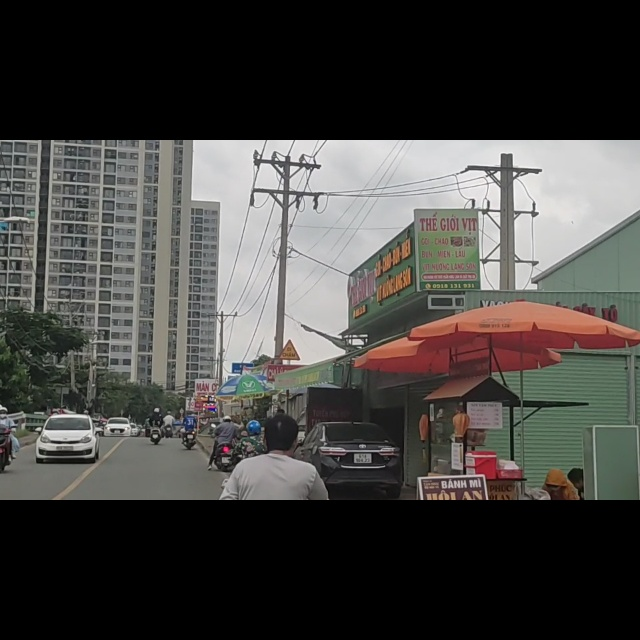bien_nguy_hiem: (277, 353, 301, 393)
